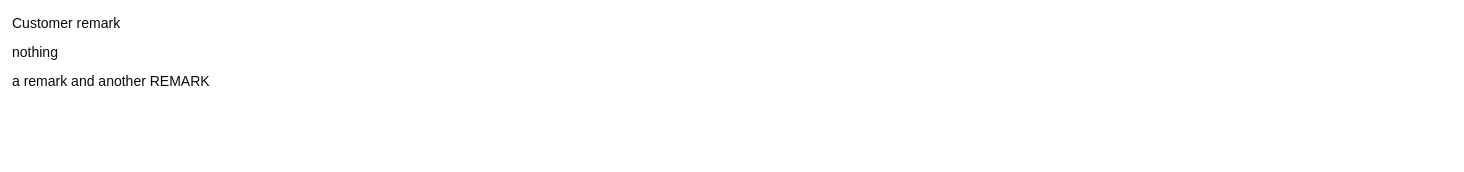
Scenario: find in a note › says when nothing matches, and match case narrows it
The image size is (1464, 172).
Press f
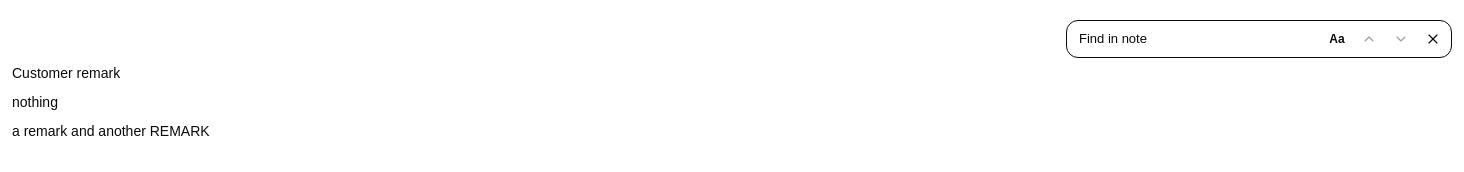
Type "zzz" into the field labelled "Find in note".
click(1169, 39); type("zzz")  # box [1079, 29, 1259, 49]
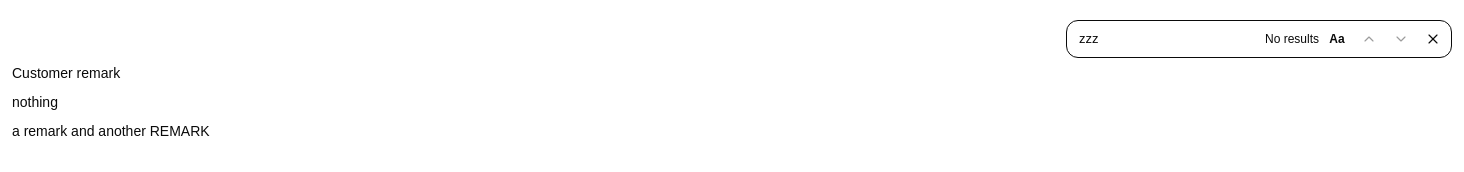
Check: the text "No results" is shown, box [1263, 30, 1319, 48]
Replace the text in the field named "Find in note" with "REMARK" at (1169, 39), box [1079, 29, 1259, 49]
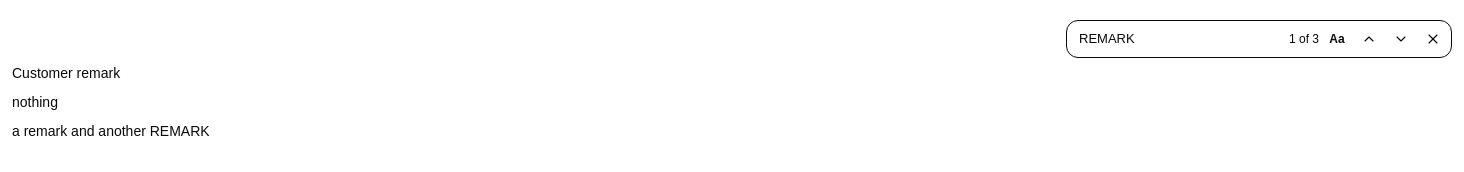
Check: the text "1 of 3" is shown, box [1289, 32, 1319, 46]
Click the button with aria-label "Match case".
click(1337, 39)  # box [1323, 25, 1351, 53]
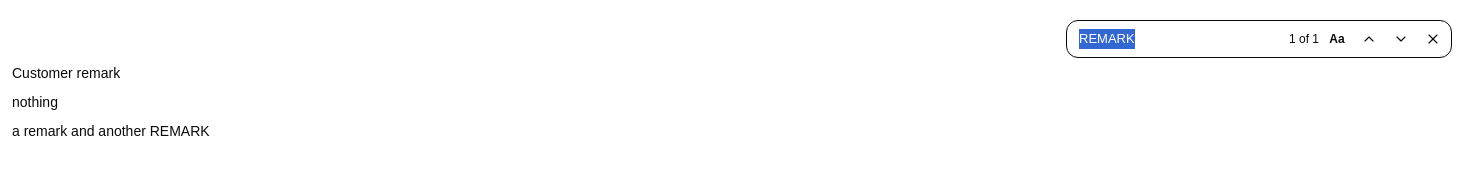
Check: the text "1 of 1" is shown, box [1289, 32, 1319, 46]
